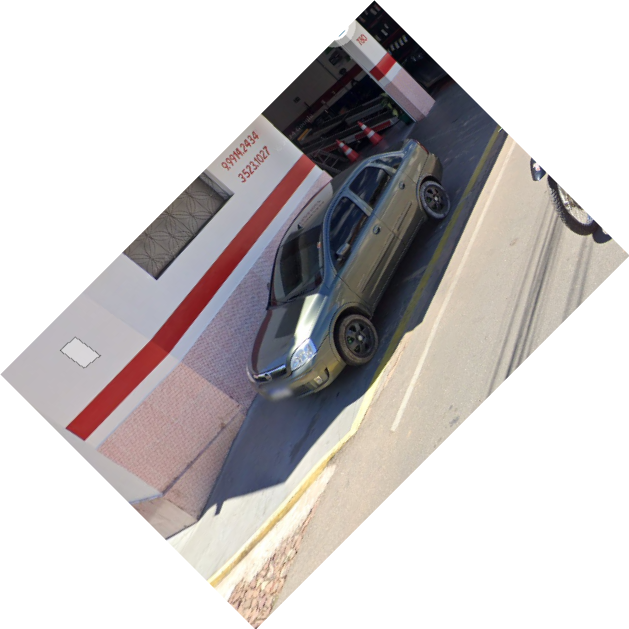car: (233, 135, 456, 426)
